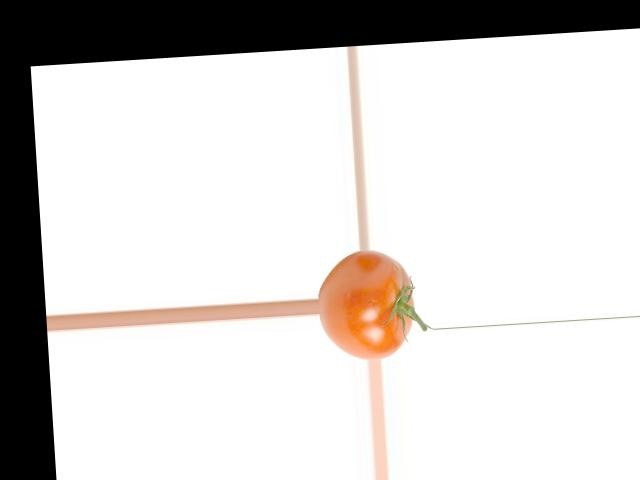tomato: (316, 246, 418, 362)
